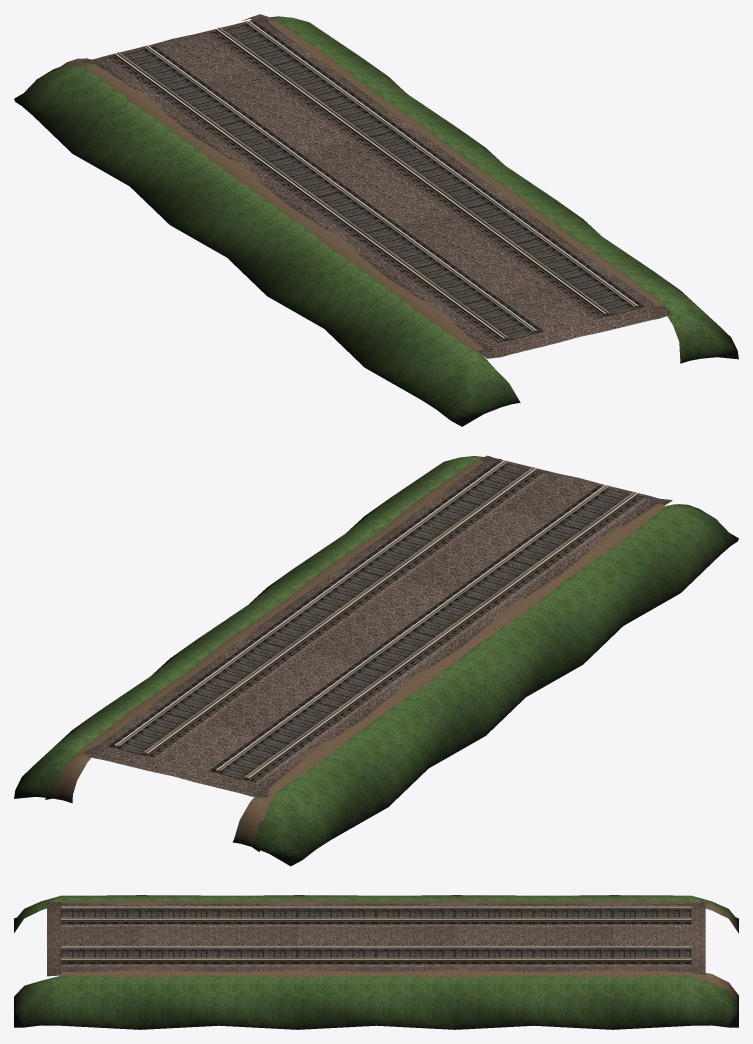
The model's file is KI_RAIL00_100.glb.
The picture shows the model from 3 angles, top to bottom: view 1: azimuth 30°, elevation 25°; view 2: azimuth 150°, elevation 25°; view 3: azimuth 270°, elevation 25°; orthographic projection. The views are drawn at different scales.
Visible parts, largest first — view 1: Jari_All, R000_RG_R, R000_RG_L; view 2: Jari_All, R000_RG_R, R000_RG_L; view 3: Jari_All, R000_RG_L, R000_RG_R.
Boxes of the visible parts, x1,y1,x2,y2 form: Jari_All: [14, 14, 738, 426]; R000_RG_R: [117, 27, 609, 338]; R000_RG_L: [143, 21, 635, 331]; Jari_All: [14, 455, 738, 866]; R000_RG_R: [143, 467, 635, 778]; R000_RG_L: [117, 460, 609, 772]; Jari_All: [14, 895, 738, 1029]; R000_RG_L: [61, 917, 691, 958]; R000_RG_R: [61, 907, 691, 948].
Size of the model in its own units: 46.85 by 7.05 by 115.
Materials: 8 (7 with a texture image).
